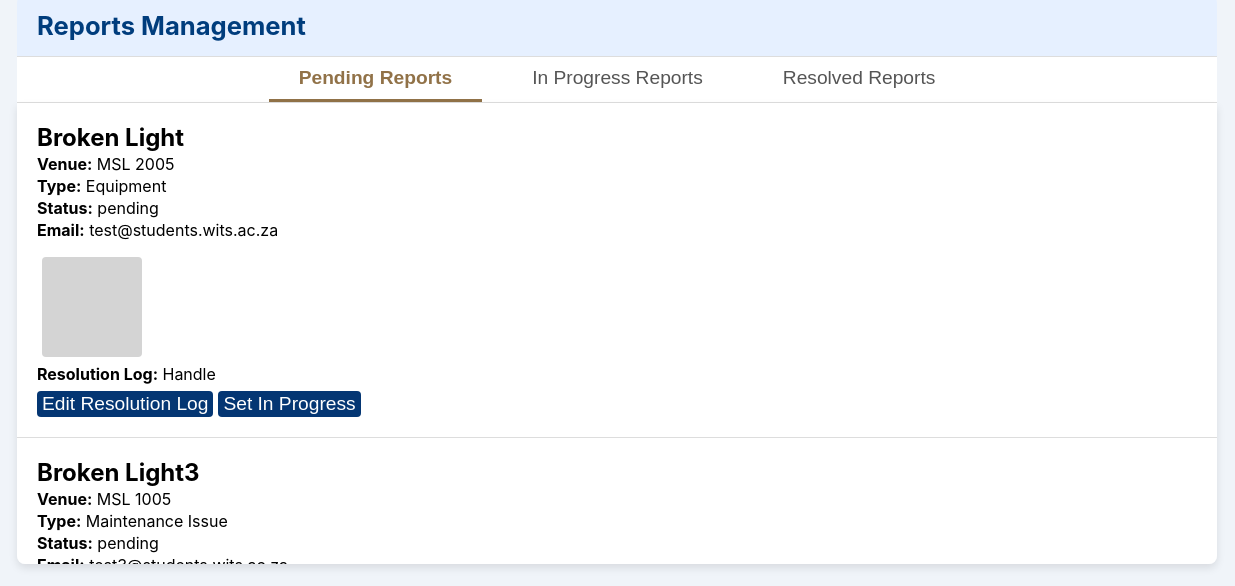
Test: ManageReports Component - Set Report to In Progress › edits, saves, and cancels resolution log (covers lines 134-149)
Note: Click the "Edit Resolution Log" button for the first report
Click the button "Edit Resolution Log".
click(125, 404)  # box [37,391,213,417]
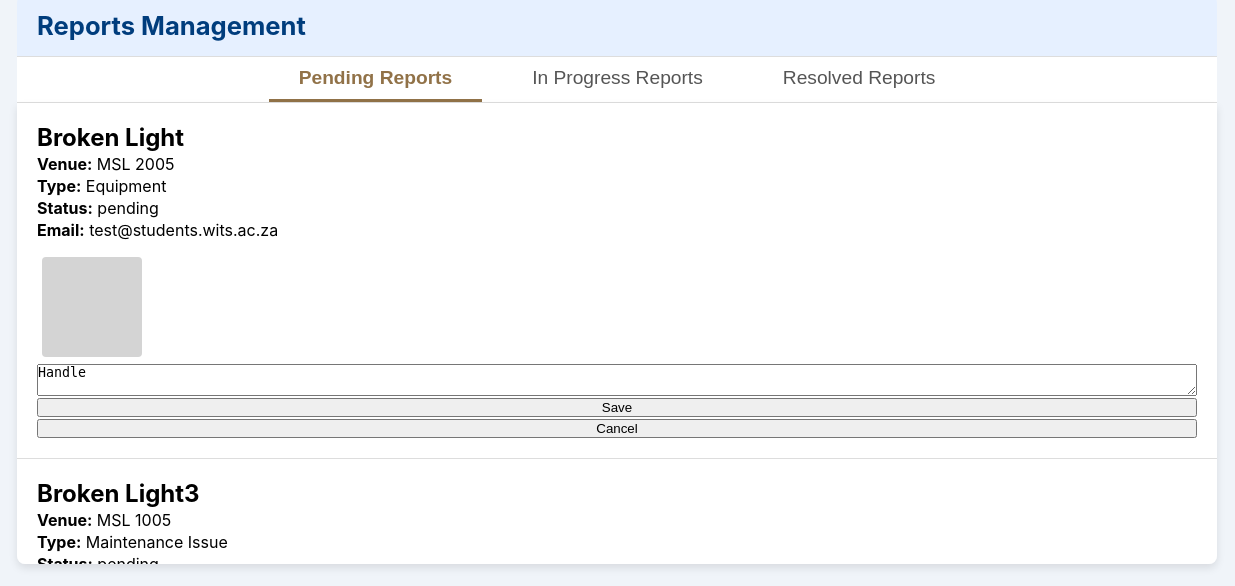
Note: Enter a new resolution log and save it
Replace the text in the text box with "Fixed issue" at coordinates (617, 380), box [37,364,1197,396]
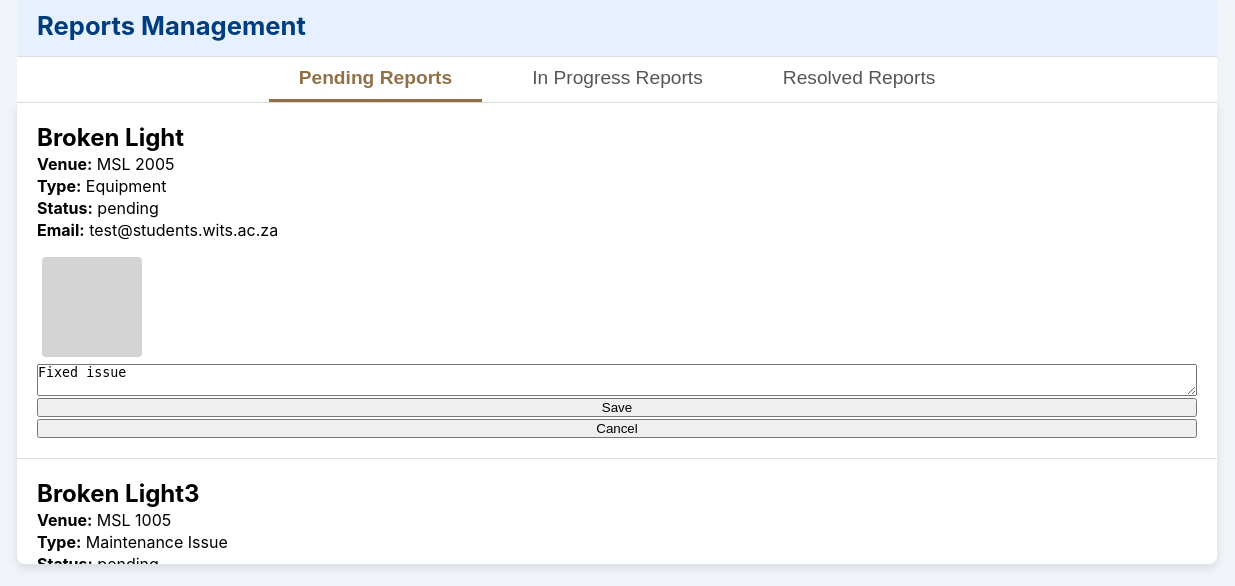
Click the button "Save".
click(617, 408)  # box [37,398,1197,417]
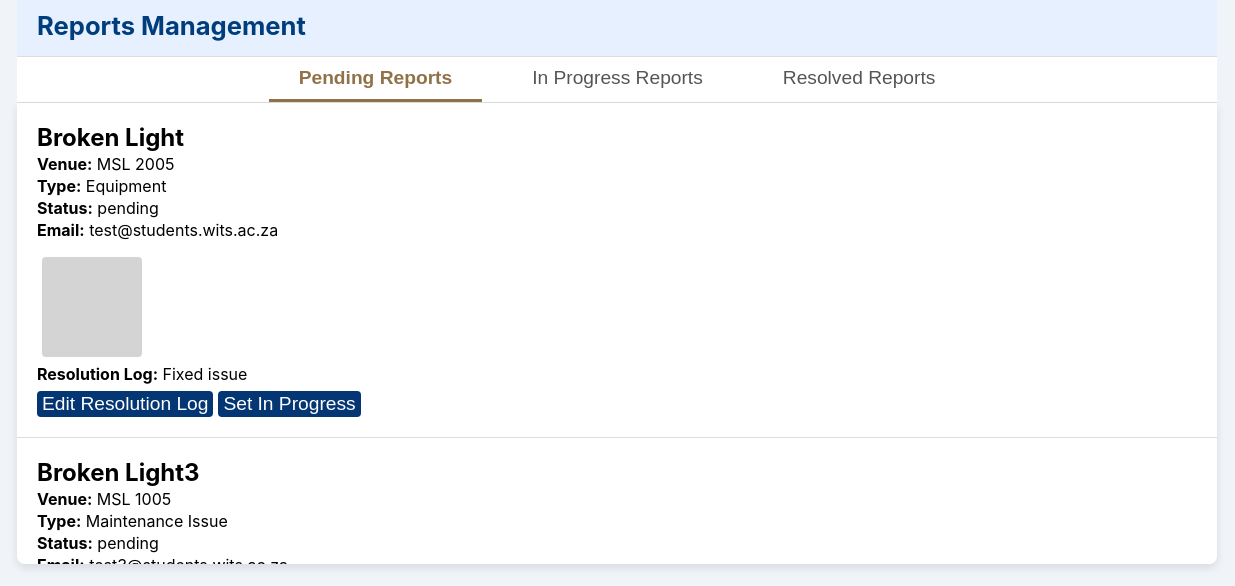
Expected: the text "Fixed issue" is shown, [162,364,247,384]
Note: Test cancelling the edit
Click the button "Edit Resolution Log".
click(125, 404)  # box [37,391,213,417]
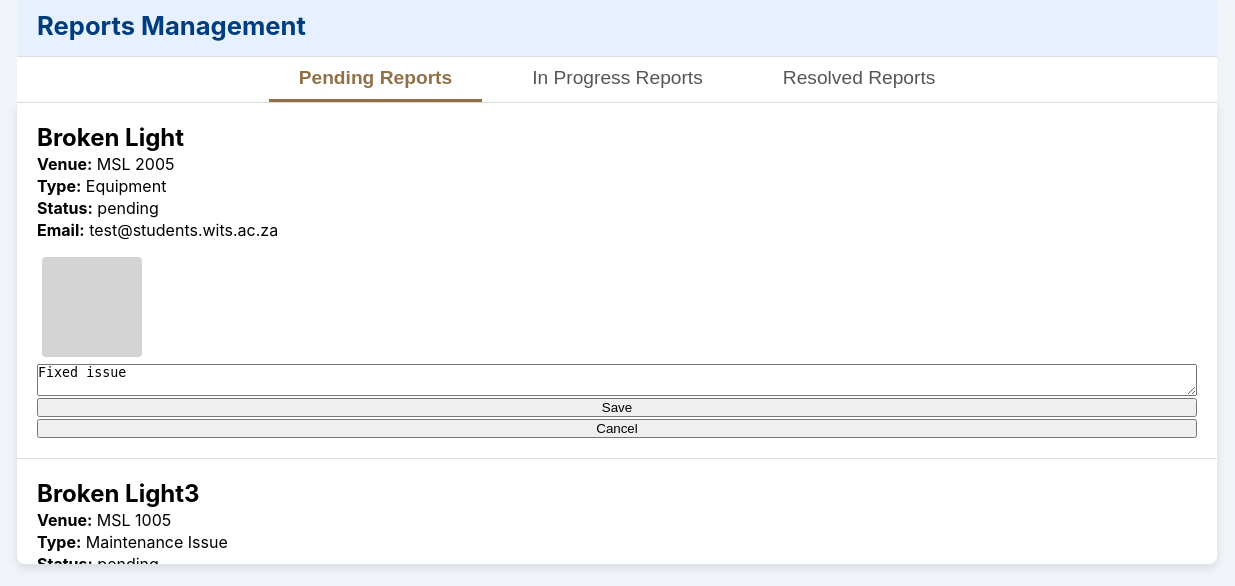
Replace the text in the text box with "Cancelled update" at coordinates (617, 380), box [37,364,1197,396]
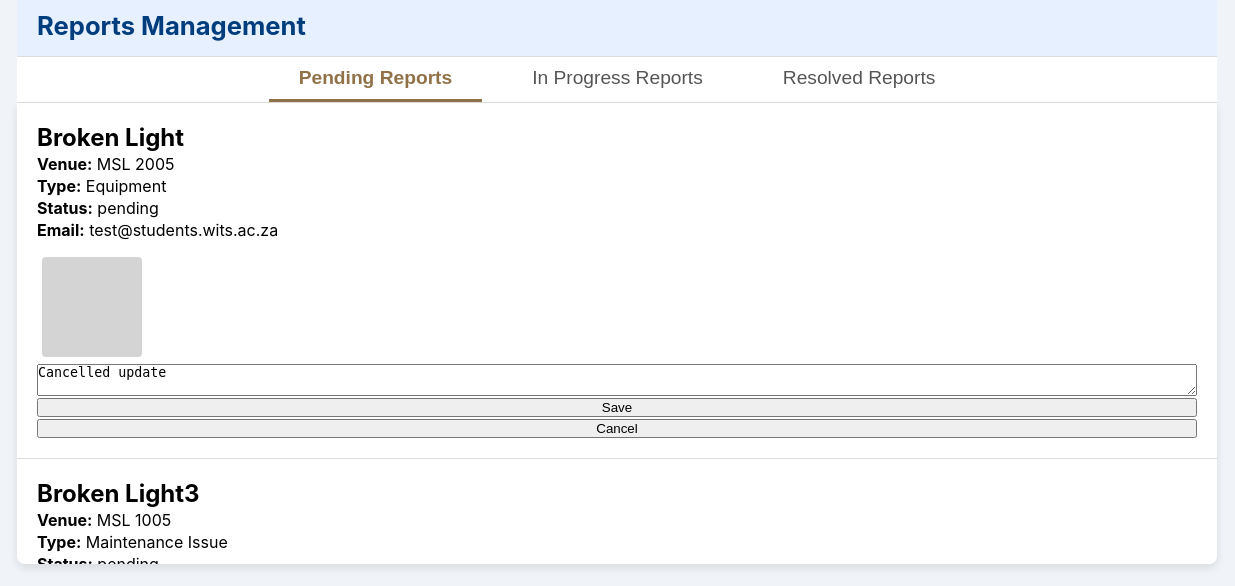
Click the button "Cancel".
click(617, 428)  # box [37,419,1197,438]
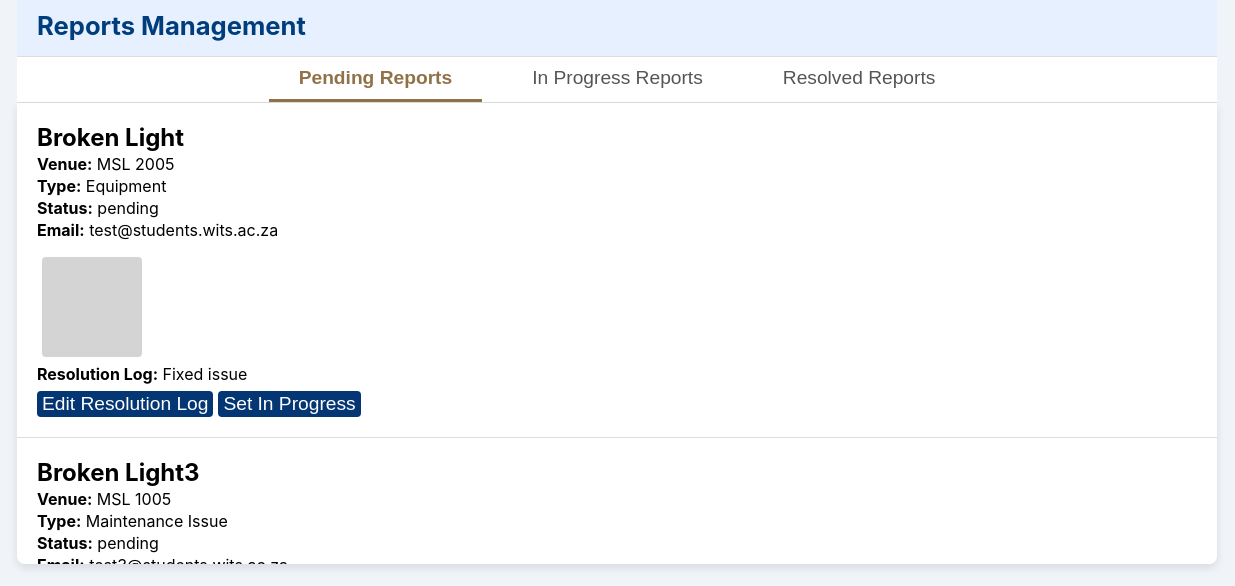
Expected: the text "Cancelled update" is not shown
Expected: the text "Fixed issue" is shown, [162,364,247,384]
